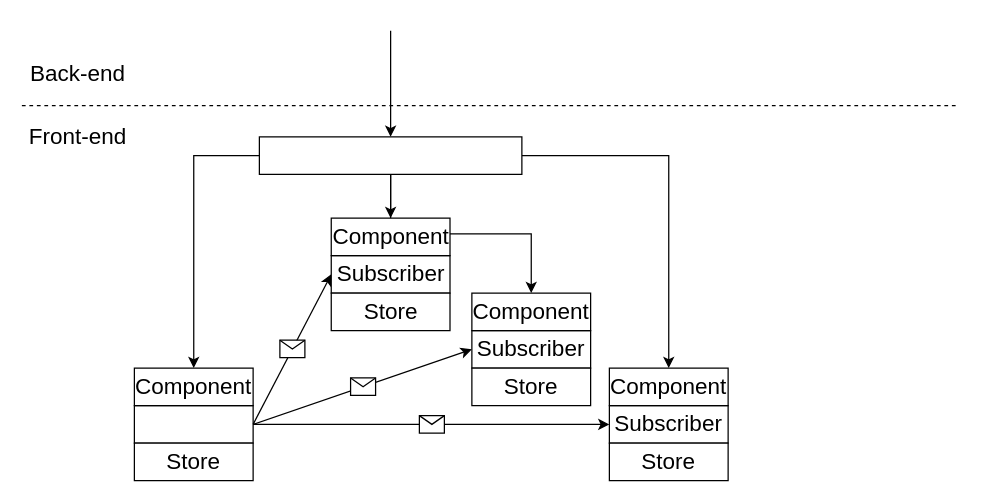
Some shapes in this 983 by 503 pixel diagram are drawn without their labels. Here are the shapes that lost their labels. From the top down, the centre of each, then its label:
the point at 390,155: UI
the point at 193,423: Publisher
